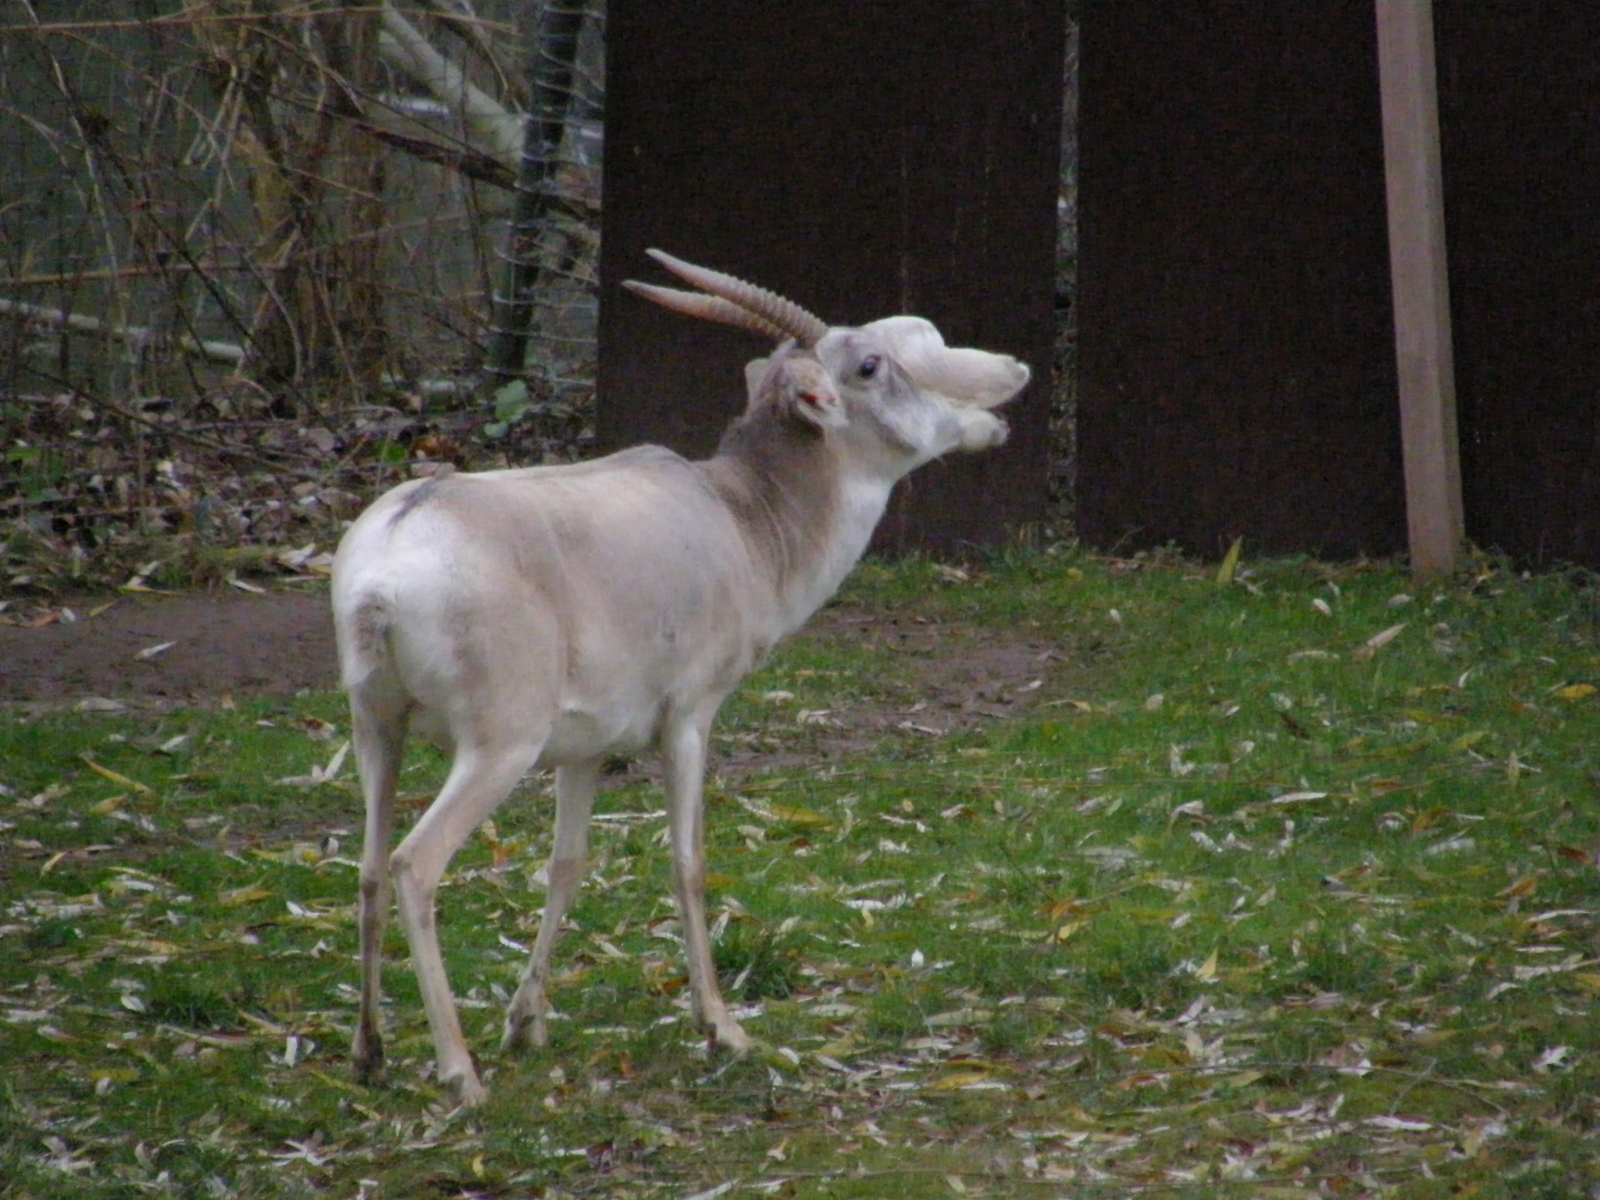saiga: (304, 229, 1052, 1100)
